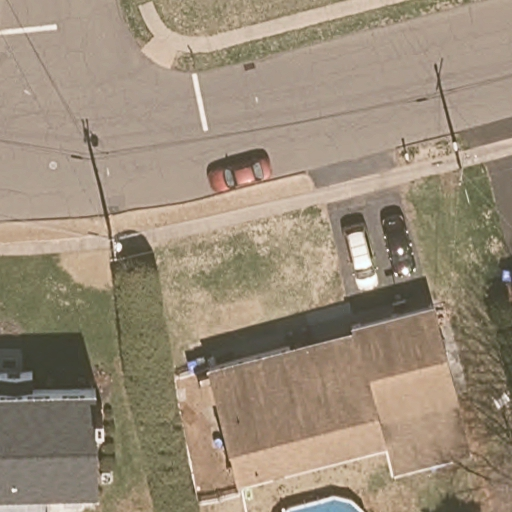DT: (450, 130, 473, 170), (104, 229, 124, 262)
